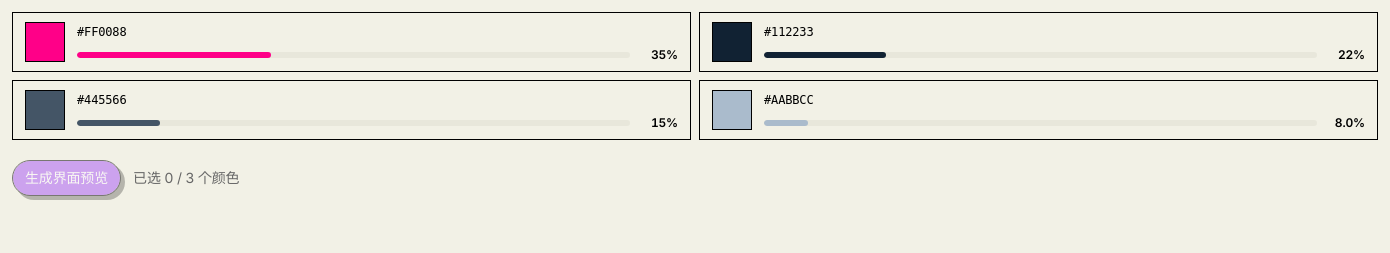
Test: ExtractedPalettePanel › deselects a swatch and shows the selection limit message
The image size is (1390, 253).
Click the button with test id "palette-swatch-Dominant1".
click(45, 42)  # box [12, 12, 691, 72]
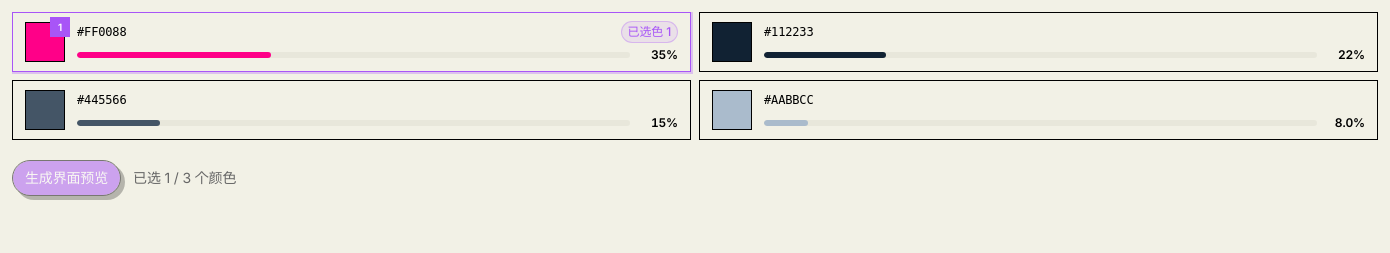
Click the button with test id "palette-swatch-Dominant2".
click(732, 42)  # box [699, 12, 1378, 72]
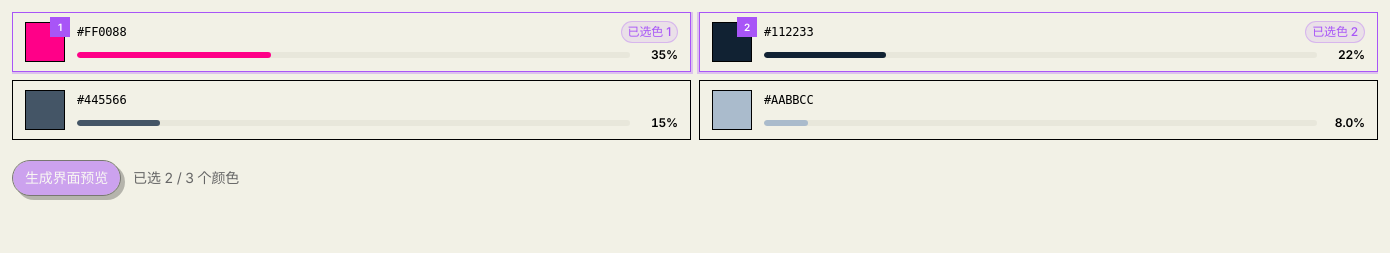
Click the button with test id "palette-swatch-Dominant3".
click(45, 110)  # box [12, 80, 691, 140]
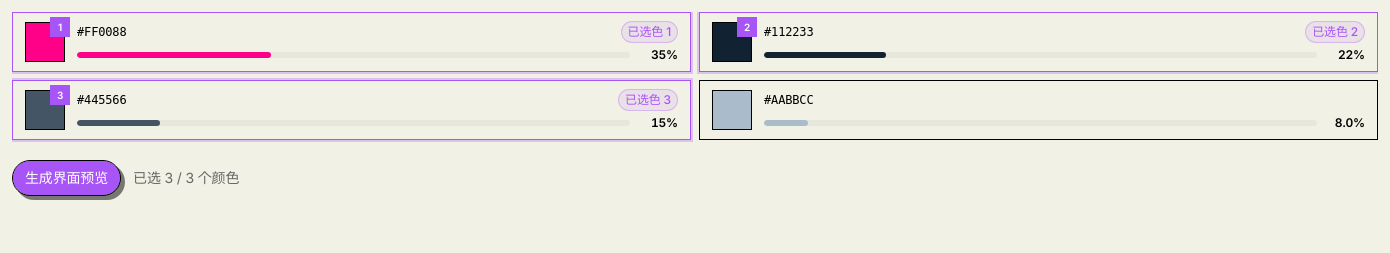
Click the button with test id "palette-swatch-Dominant4".
click(732, 110)  # box [699, 80, 1378, 140]
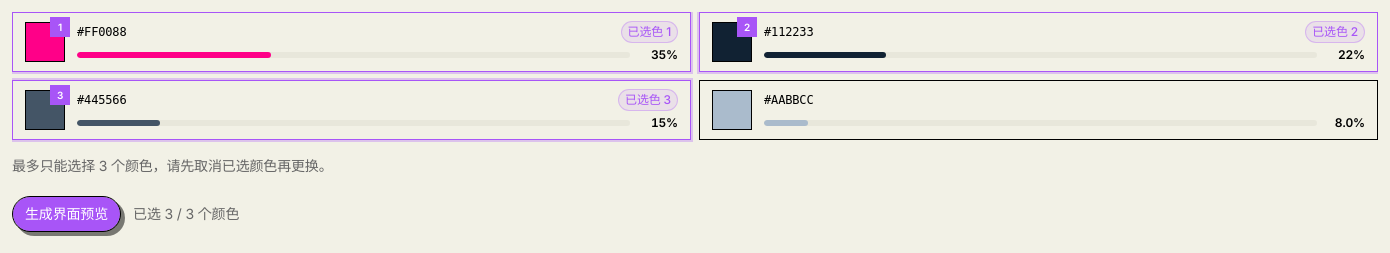
Expected: the text with test id "palette-swatch-role-Dominant1" reads "已选色 1", [628, 24, 671, 39]
Expected: the message with test id "palette-selection-limit" shows "最多只能选择 3 个颜色", [12, 157, 332, 174]
Click the button with test id "palette-swatch-Dominant2".
click(732, 42)  # box [699, 12, 1378, 72]
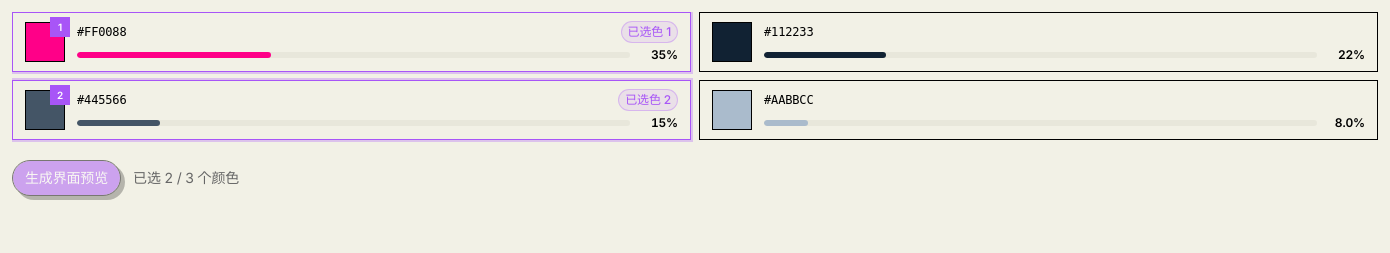
Expected: the text with test id "palette-swatch-role-Dominant2" is gone
